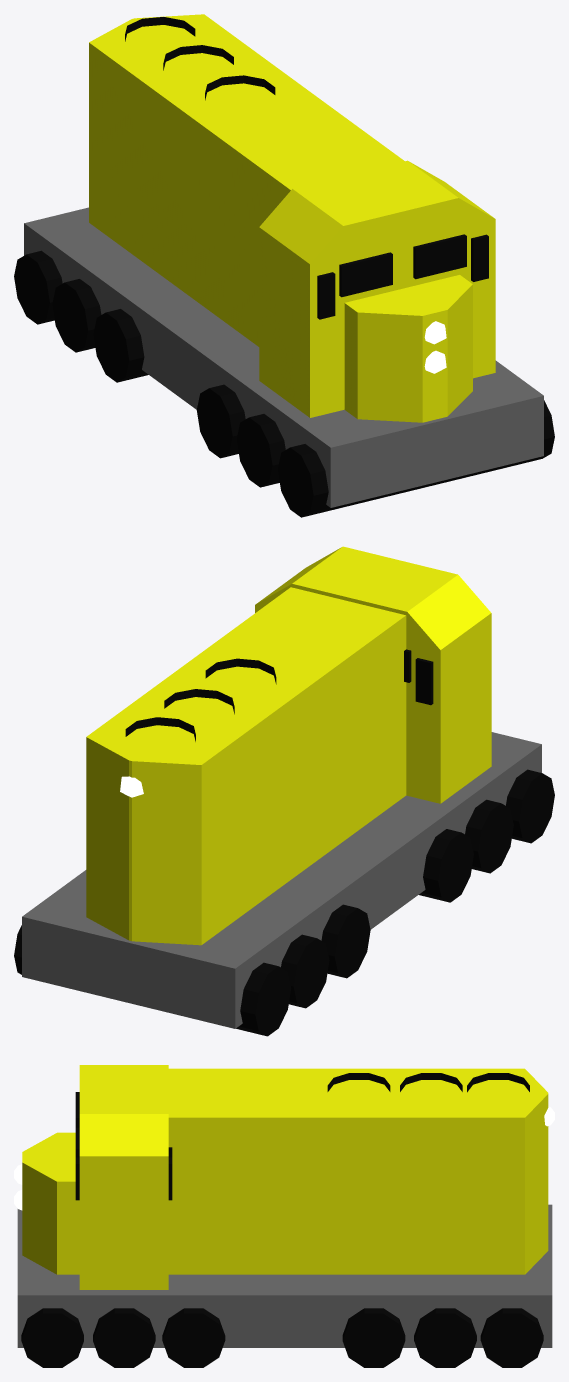
The picture shows the model from 3 angles, top to bottom: view 1: azimuth 30°, elevation 25°; view 2: azimuth 150°, elevation 25°; view 3: azimuth 270°, elevation 25°; orthographic projection. The views are drawn at different scales.
Parts seen in each view (by area): view 1: SD40; view 2: SD40; view 3: SD40.
Boxes of the visible parts, x1,y1,x2,y2 form: SD40: (14,14,554,517); SD40: (14,546,554,1036); SD40: (14,1065,554,1367).
Bounding box in the file's own units: 2.26 × 2.38 × 5.04.
